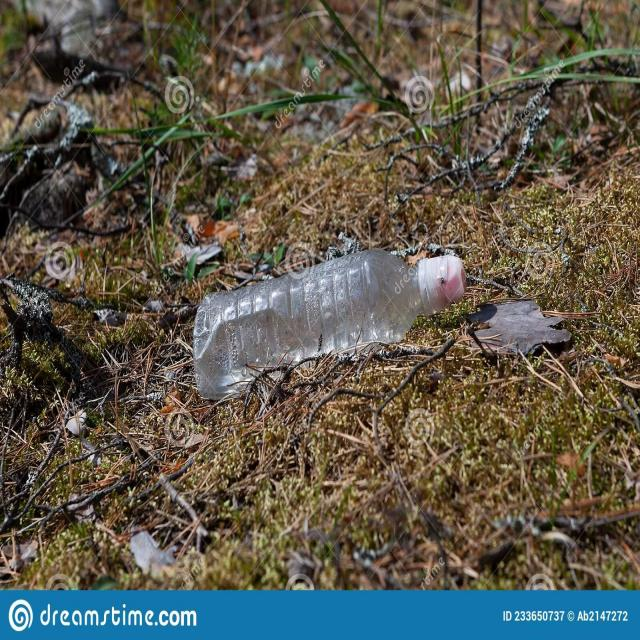bottle: (175, 242, 468, 388)
